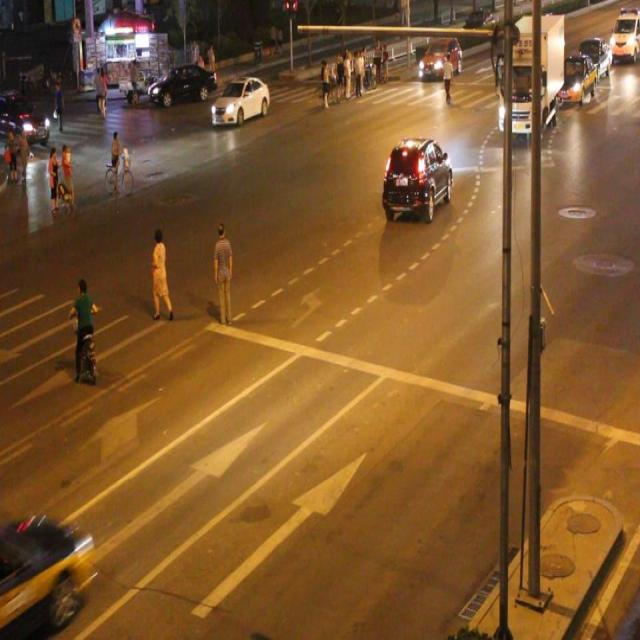bus: (495, 9, 564, 139)
car: (1, 499, 96, 640), (384, 132, 451, 218), (212, 76, 270, 129), (149, 66, 216, 101)
